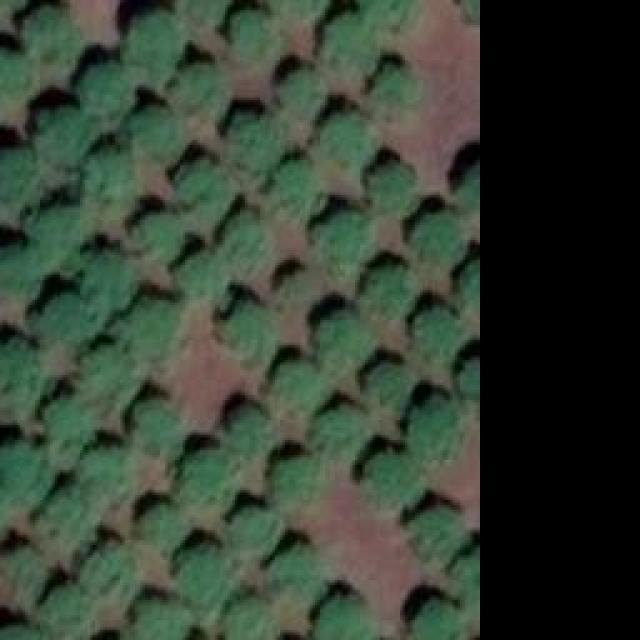Tree: (70, 342, 143, 410), (123, 5, 183, 78), (43, 485, 106, 550), (173, 443, 238, 506), (310, 205, 373, 270), (170, 540, 235, 600), (168, 160, 233, 220), (213, 300, 276, 360), (22, 100, 90, 155), (30, 293, 98, 346), (20, 2, 80, 60), (80, 438, 135, 501), (410, 392, 460, 460), (128, 398, 183, 458), (122, 295, 180, 350), (77, 148, 135, 203), (125, 108, 183, 163), (33, 205, 93, 258), (40, 398, 90, 461), (78, 540, 131, 598), (227, 503, 285, 556), (305, 405, 363, 458), (230, 110, 288, 163), (75, 253, 130, 308), (408, 300, 463, 355), (310, 592, 373, 640), (0, 445, 50, 505), (0, 335, 42, 405), (320, 110, 375, 163), (315, 313, 370, 366), (410, 210, 465, 263), (363, 448, 418, 501), (328, 17, 378, 75), (273, 155, 323, 213), (365, 160, 423, 210), (130, 592, 190, 640), (223, 213, 273, 268), (413, 505, 468, 555), (270, 453, 318, 506), (173, 63, 223, 113), (360, 263, 410, 313), (38, 585, 83, 640), (218, 595, 273, 640), (270, 355, 320, 403), (133, 213, 186, 258), (0, 142, 40, 200), (225, 402, 273, 450), (232, 5, 280, 53), (273, 548, 318, 598), (373, 60, 418, 110), (0, 239, 42, 292), (80, 62, 125, 110), (365, 360, 410, 408), (183, 255, 226, 303), (0, 543, 45, 588), (278, 70, 323, 113), (0, 48, 35, 103), (413, 602, 463, 640), (270, 258, 313, 301), (143, 503, 183, 548), (450, 548, 480, 608), (450, 260, 480, 313), (452, 158, 480, 213), (362, 0, 420, 25), (455, 360, 480, 403), (175, 0, 225, 18), (0, 625, 45, 640)
